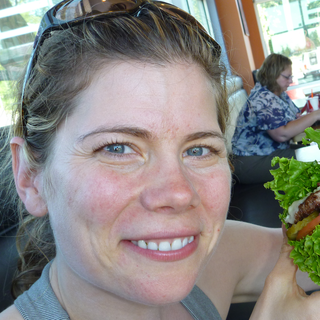eye: (93, 138, 144, 163), (174, 140, 220, 164)
